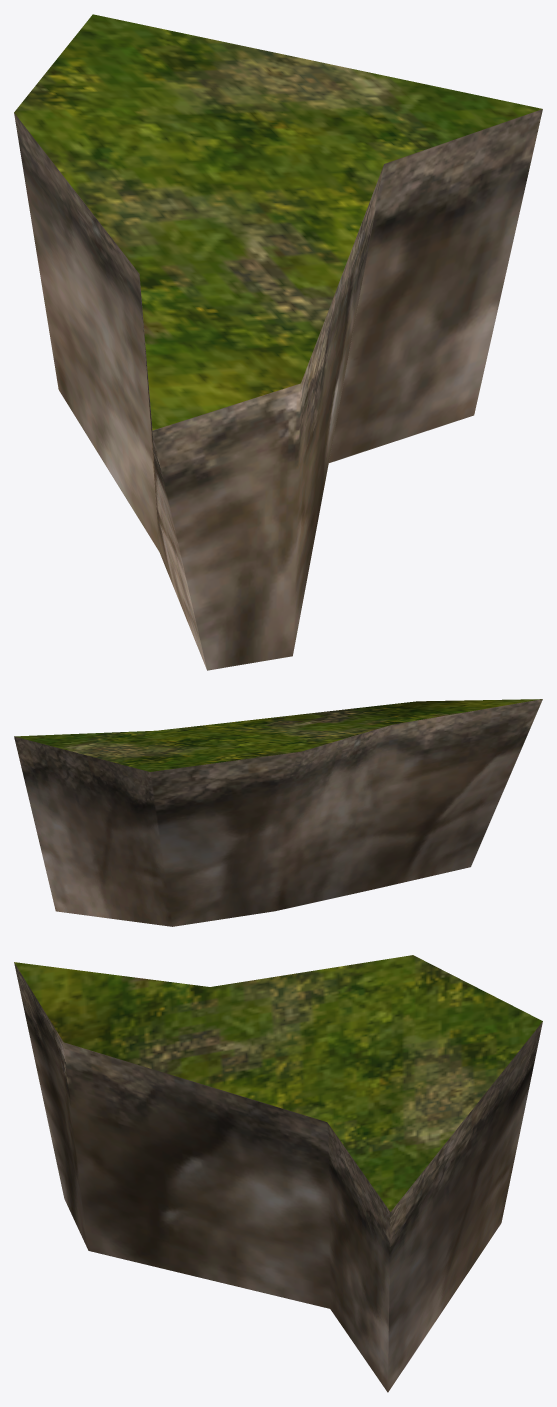
The model's file is ANIMATEDINSTANCES_OH_ROCKFALL_201__AI.fbx.
3 renders of one model, top to bottom at view 1: azimuth 30°, elevation 25°; view 2: azimuth 150°, elevation 25°; view 3: azimuth 270°, elevation 25°, orthographic. The views are drawn at different scales.
Visible parts, largest first — view 1: ANIMATEDINSTANCES_OH_ROCKFALL_201__AI; view 2: ANIMATEDINSTANCES_OH_ROCKFALL_201__AI; view 3: ANIMATEDINSTANCES_OH_ROCKFALL_201__AI.
Part boxes in pixels (left/top/right/bottom): ANIMATEDINSTANCES_OH_ROCKFALL_201__AI: left=14, top=14, right=542, bottom=670; ANIMATEDINSTANCES_OH_ROCKFALL_201__AI: left=14, top=699, right=542, bottom=926; ANIMATEDINSTANCES_OH_ROCKFALL_201__AI: left=14, top=955, right=542, bottom=1392.
Size of the model in its own units: 12372 by 7188 by 12141.
2 materials, 2 textured.
